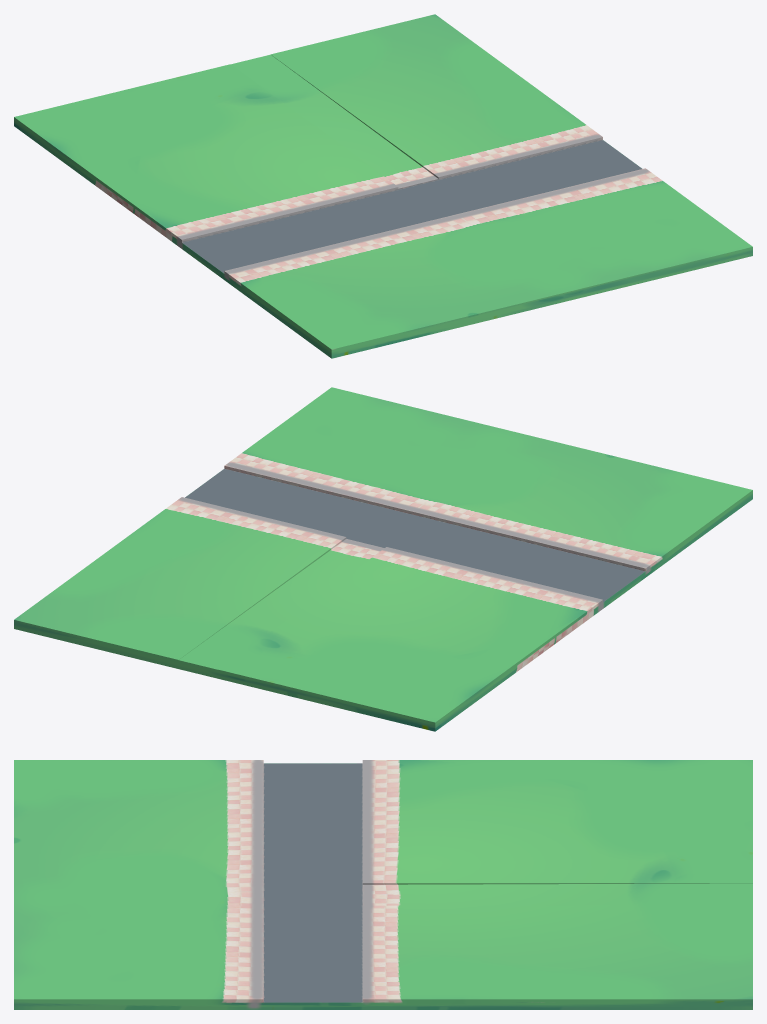
File: dat.fbx
3 views of the same model, one above another, from view 1: azimuth 30°, elevation 25°; view 2: azimuth 150°, elevation 25°; view 3: azimuth 270°, elevation 25° (orthographic). The views are drawn at different scales.
Visible parts, largest first — view 1: Dat; view 2: Dat; view 3: Dat.
Part boxes in pixels (x1,y1,x2,y2): Dat: (14,14,752,358); Dat: (14,387,752,731); Dat: (14,760,752,1009).
Size of the model in its own units: 3127 by 65.12 by 4085.
